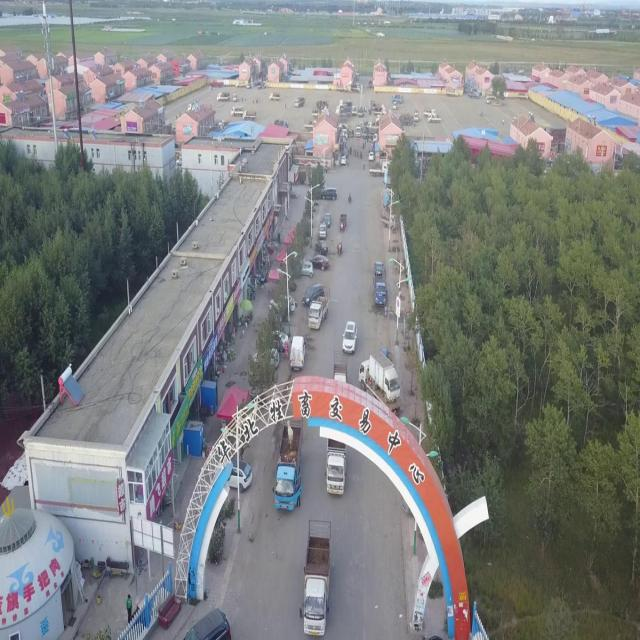car: (183, 608, 231, 640), (227, 458, 252, 491)
person: (126, 593, 132, 624)
tree: (392, 134, 640, 616), (0, 134, 203, 412)
